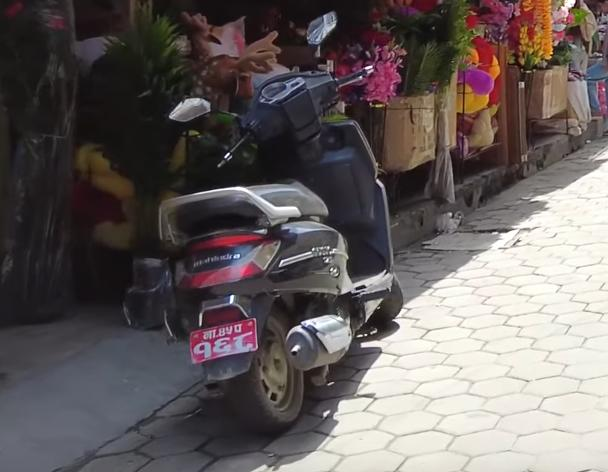scooter: (149, 46, 406, 437)
